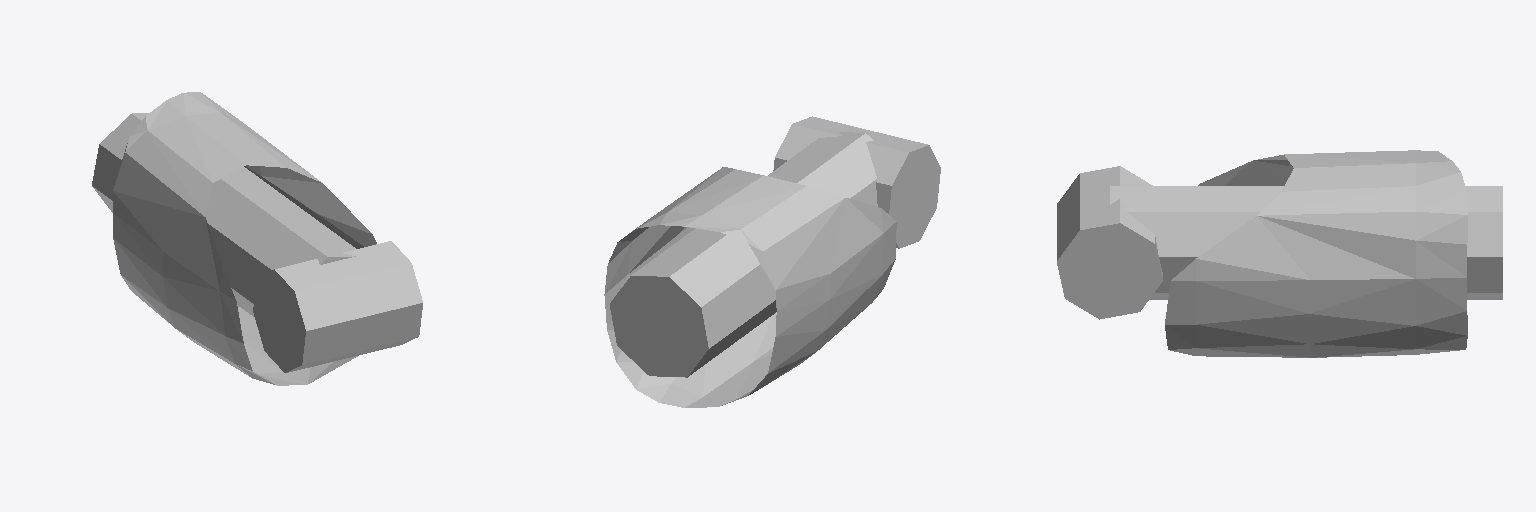
The model's file is icub_simple_collision_r_upper_leg.obj.
The picture shows the model from 3 angles: view 1: azimuth 30°, elevation 25°; view 2: azimuth 150°, elevation 25°; view 3: azimuth 270°, elevation 25°; orthographic projection.
Visible parts, largest first — view 1: r_thigh_mesh_Cylinder.023; view 2: r_thigh_mesh_Cylinder.023; view 3: r_thigh_mesh_Cylinder.023.
Part boxes in pixels (left/top/right/bottom): r_thigh_mesh_Cylinder.023: left=92, top=92, right=422, bottom=385; r_thigh_mesh_Cylinder.023: left=604, top=116, right=940, bottom=407; r_thigh_mesh_Cylinder.023: left=1057, top=150, right=1502, bottom=357.
Bounding box in the file's own units: 0.1024 × 0.1173 × 0.2543.